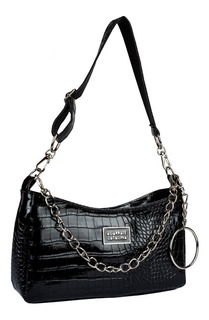cartera: (9, 14, 202, 304)
